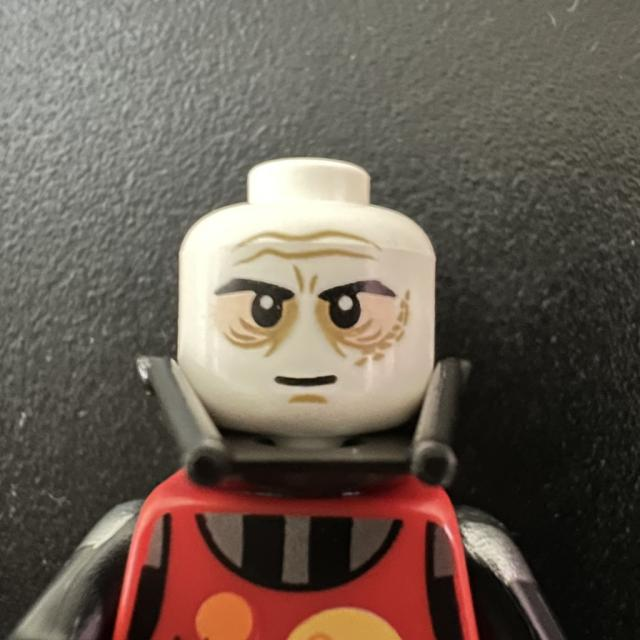alien: (132, 143, 477, 499)
